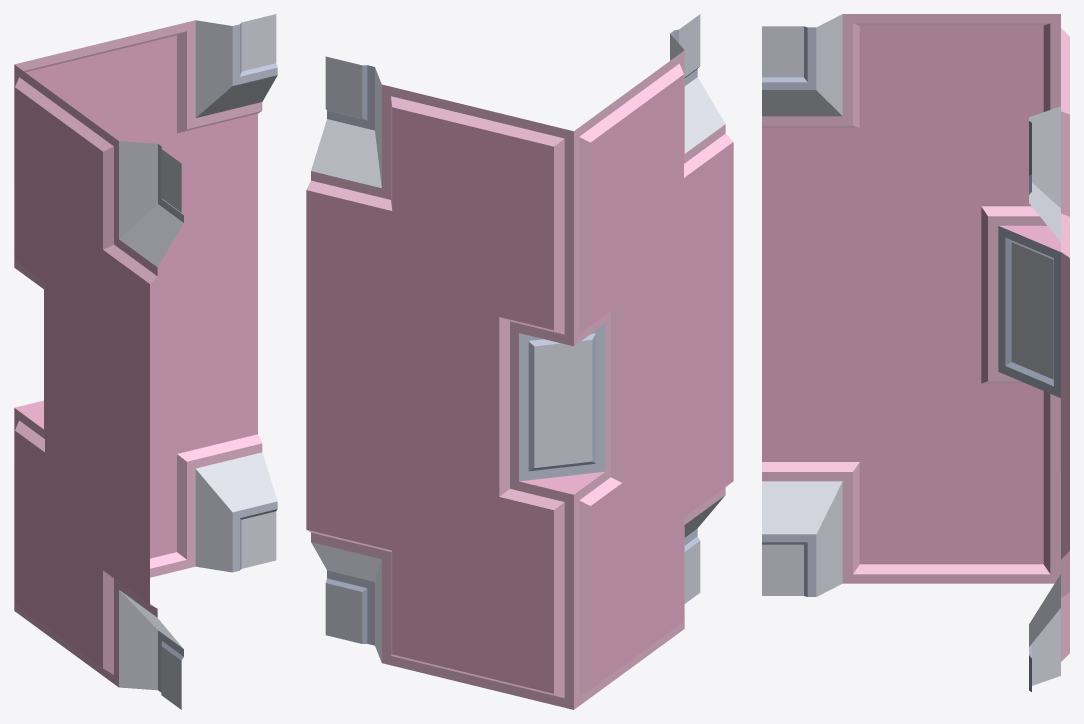
File: WallPanel_CornerIn.fbx
3 renders of one model, left to right at view 1: azimuth 30°, elevation 25°; view 2: azimuth 150°, elevation 25°; view 3: azimuth 270°, elevation 25°, orthographic. The views are drawn at different scales.
Parts seen in each view (by area): view 1: CornerPanelIn2; view 2: CornerPanelIn2; view 3: CornerPanelIn2.
Boxes of the visible parts, x1,y1,x2,y2 form: CornerPanelIn2: (14, 14, 277, 709); CornerPanelIn2: (306, 14, 733, 709); CornerPanelIn2: (762, 14, 1069, 691).
Bounding box in the file's own units: 176 × 360 × 176.
Materials: 1 (1 with a texture image).
